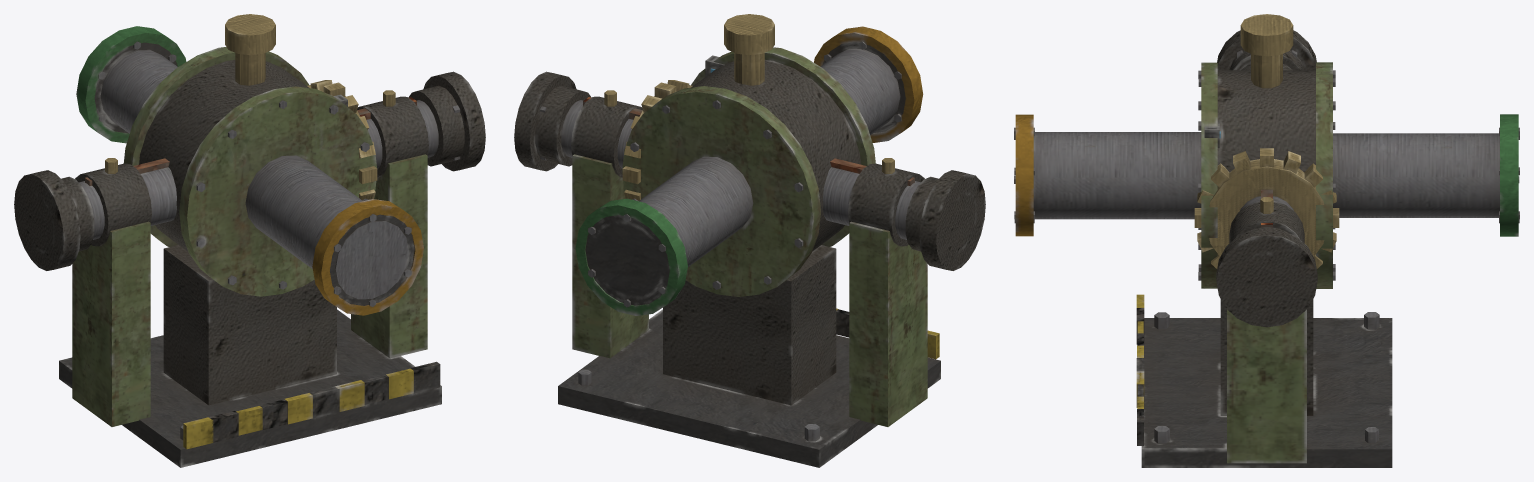
The model's file is feMechPump_HD.fbx.
The picture shows the model from 3 angles, left to right: view 1: azimuth 30°, elevation 25°; view 2: azimuth 150°, elevation 25°; view 3: azimuth 270°, elevation 25°; orthographic projection. The views are drawn at different scales.
Visible parts, largest first — view 1: feMechPump_Base, FeSpin_PumpShaft; view 2: feMechPump_Base, FeSpin_PumpShaft; view 3: feMechPump_Base, FeSpin_PumpShaft.
Boxes of the visible parts, bbox=[...] form: feMechPump_Base: bbox=[59, 14, 441, 467]; FeSpin_PumpShaft: bbox=[14, 71, 485, 270]; feMechPump_Base: bbox=[558, 14, 940, 467]; FeSpin_PumpShaft: bbox=[514, 71, 985, 270]; feMechPump_Base: bbox=[1014, 14, 1519, 467]; FeSpin_PumpShaft: bbox=[1194, 30, 1339, 327].
Size of the model in its own units: 1 by 0.833 by 1.01.
2 materials, 1 textured.
